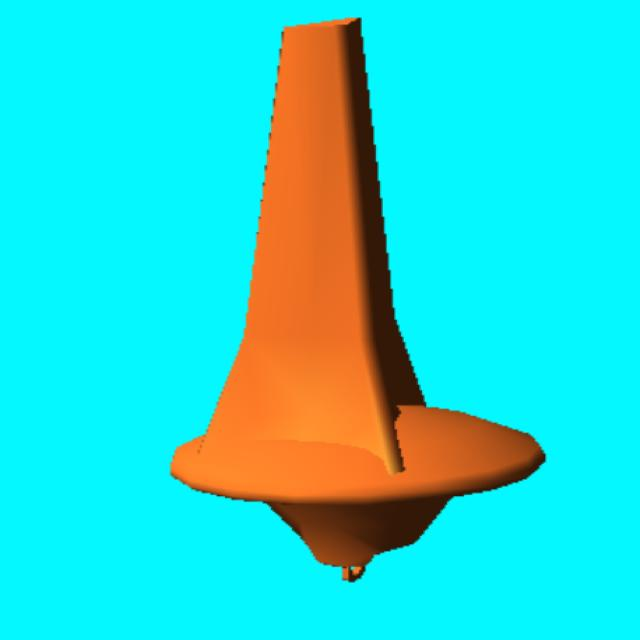OrangeBuoy: (169, 18, 548, 584)
